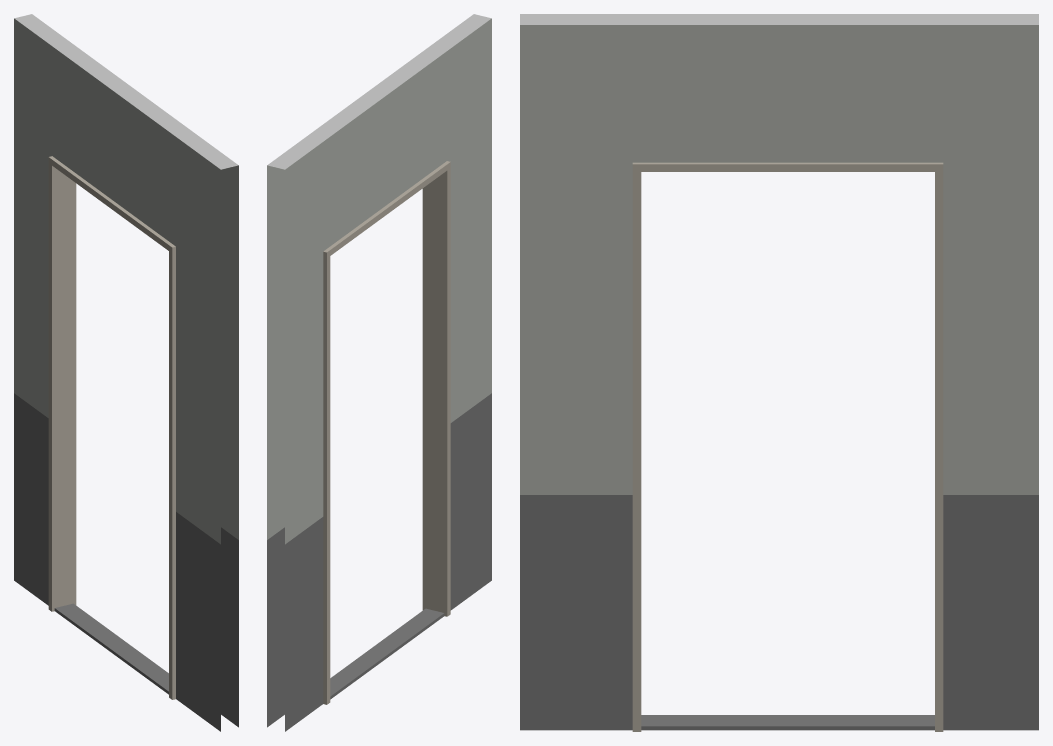
Rendered from SM_Wall_Door_100.fbx.
The picture shows the model from 3 angles, left to right: view 1: azimuth 30°, elevation 25°; view 2: azimuth 150°, elevation 25°; view 3: azimuth 270°, elevation 25°; orthographic projection. The views are drawn at different scales.
Visible parts, largest first — view 1: SM_Wall_Door_100; view 2: SM_Wall_Door_100; view 3: SM_Wall_Door_100.
Part boxes in pixels (left/top/right/bottom): SM_Wall_Door_100: left=14, top=14, right=238, bottom=731; SM_Wall_Door_100: left=267, top=14, right=491, bottom=731; SM_Wall_Door_100: left=520, top=14, right=1038, bottom=731.
Size of the model in its own units: 13.68 by 300 by 200.
